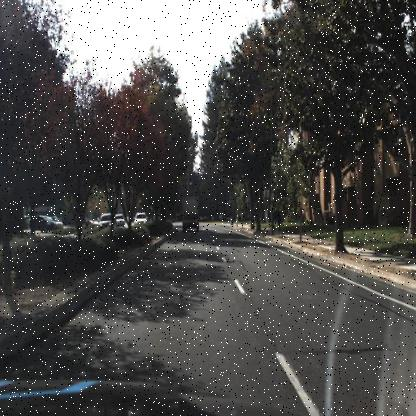car: (31, 211, 56, 236), (95, 211, 115, 236), (132, 208, 150, 232), (133, 210, 148, 227), (51, 215, 64, 234), (113, 211, 126, 230)
truck: (177, 191, 202, 235)
